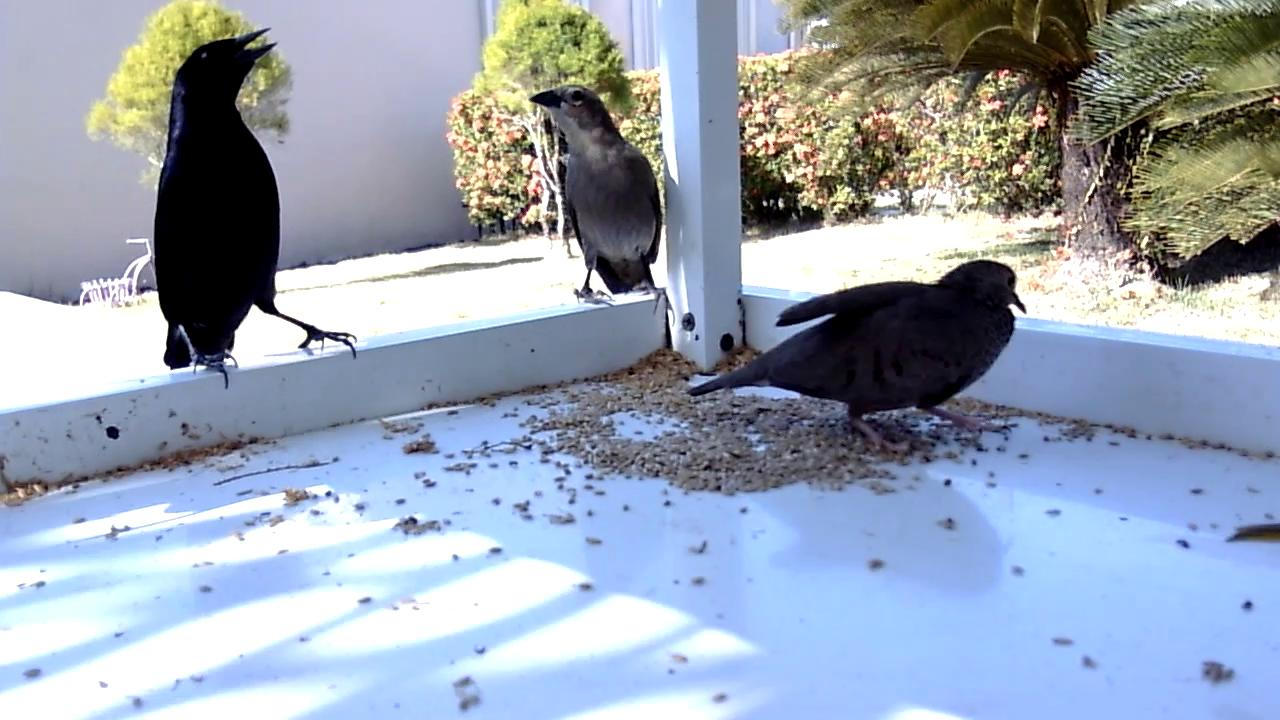chupim: (151, 26, 361, 393), (528, 84, 669, 311)
rolinha: (684, 258, 1031, 457)
